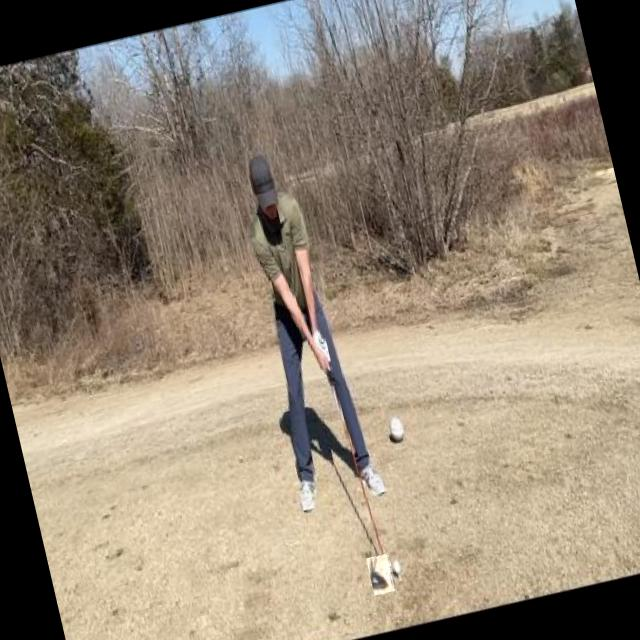club head: (366, 553, 396, 595)
